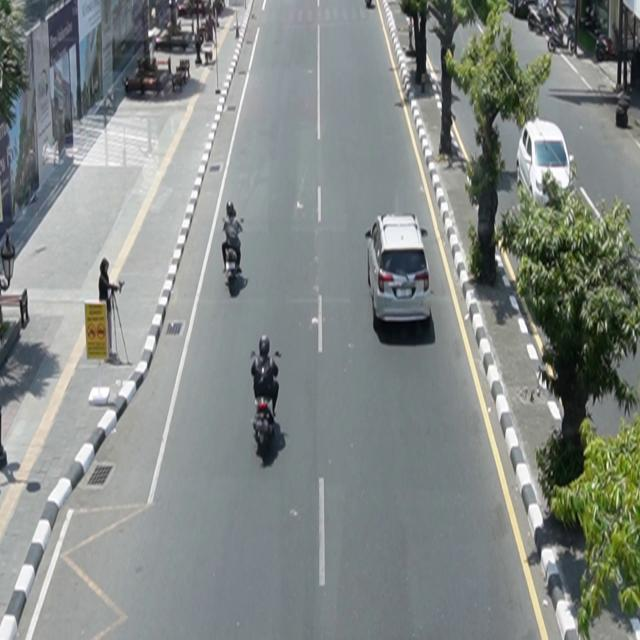car: (366, 213, 432, 328), (517, 118, 575, 210)
